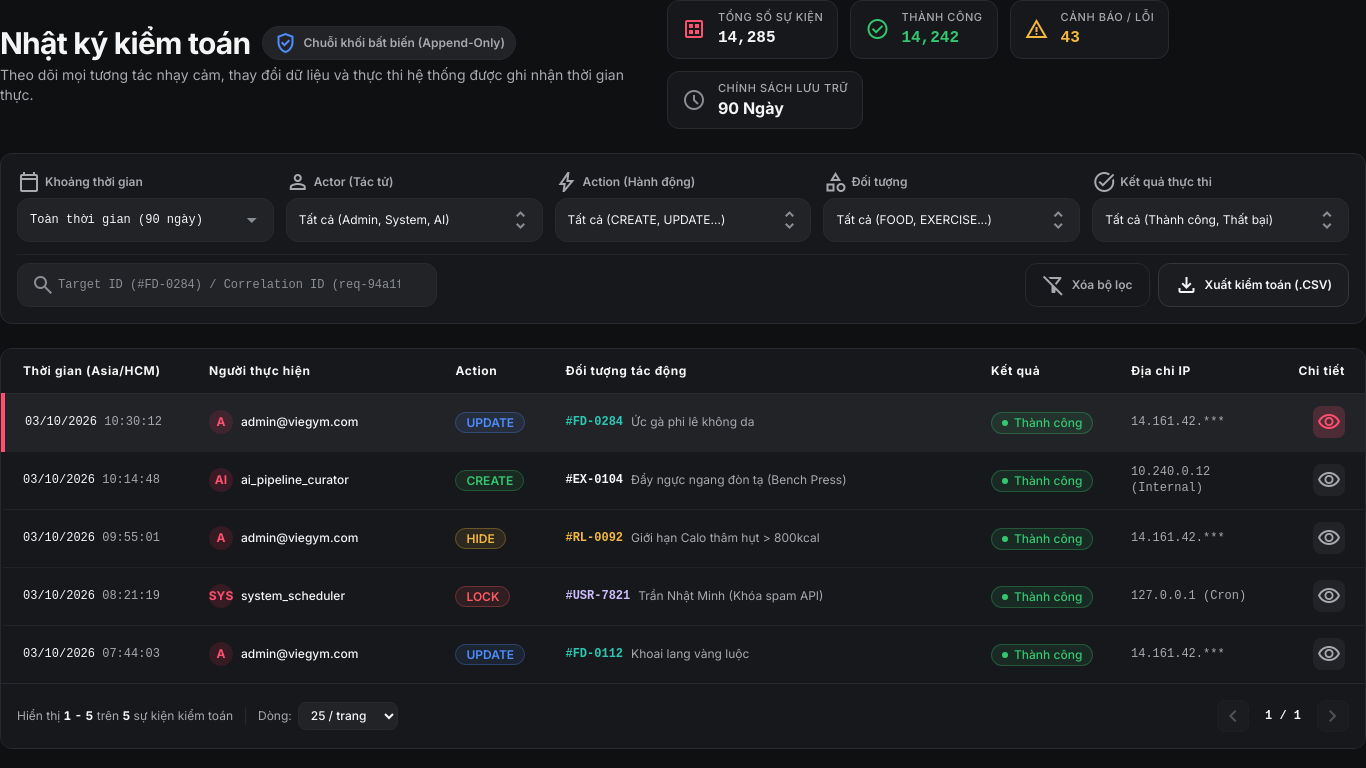
Test: AuditLogsPage › opens audit detail drawer when clicking a log entry
Step 1. Click the text "Ức gà phi lê không da" → (693, 422), box [631, 414, 754, 430]
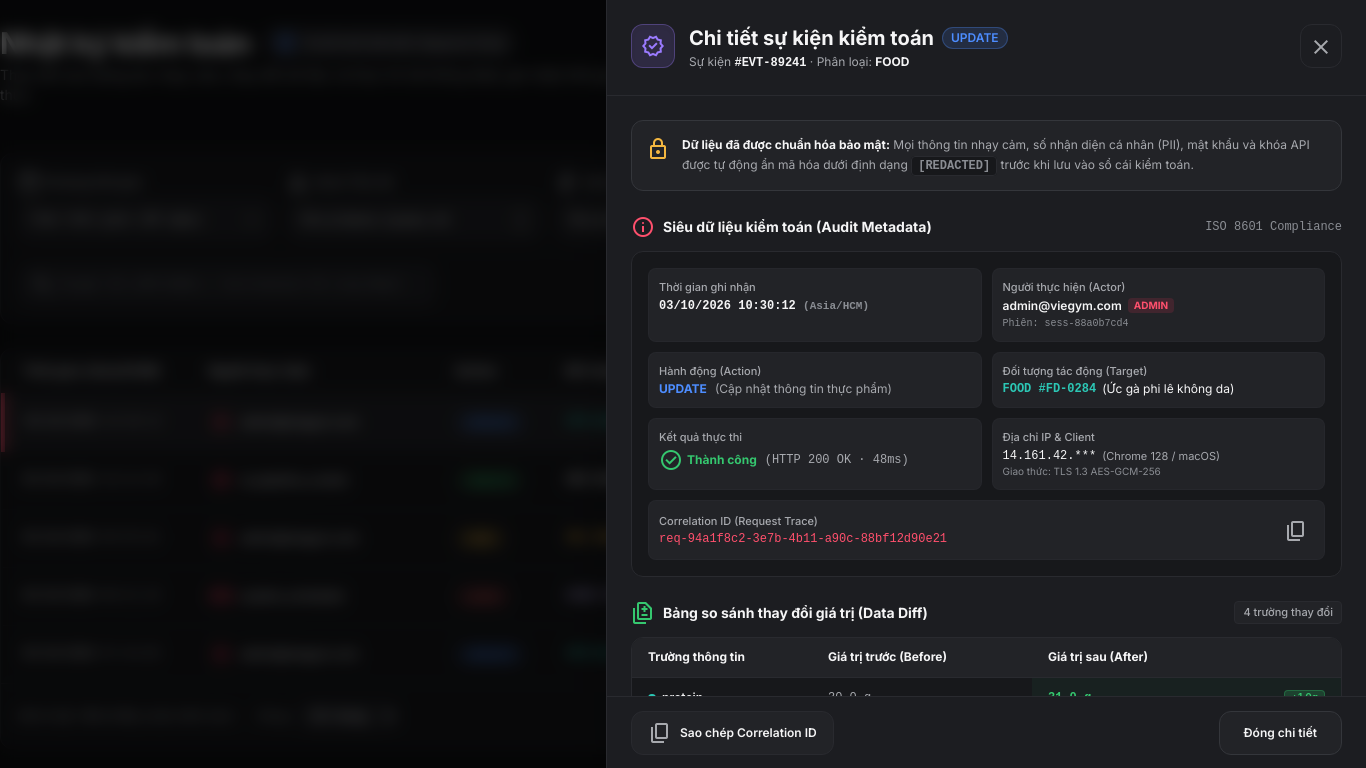
Expected: the heading "Chi tiết sự kiện kiểm toán" is shown, [689, 24, 934, 52]
Expected: the text "#EVT-89241" is shown, [734, 56, 806, 70]
Expected: the heading "Bảng so sánh thay đổi giá trị (Data Diff)" is shown, [631, 601, 928, 625]
